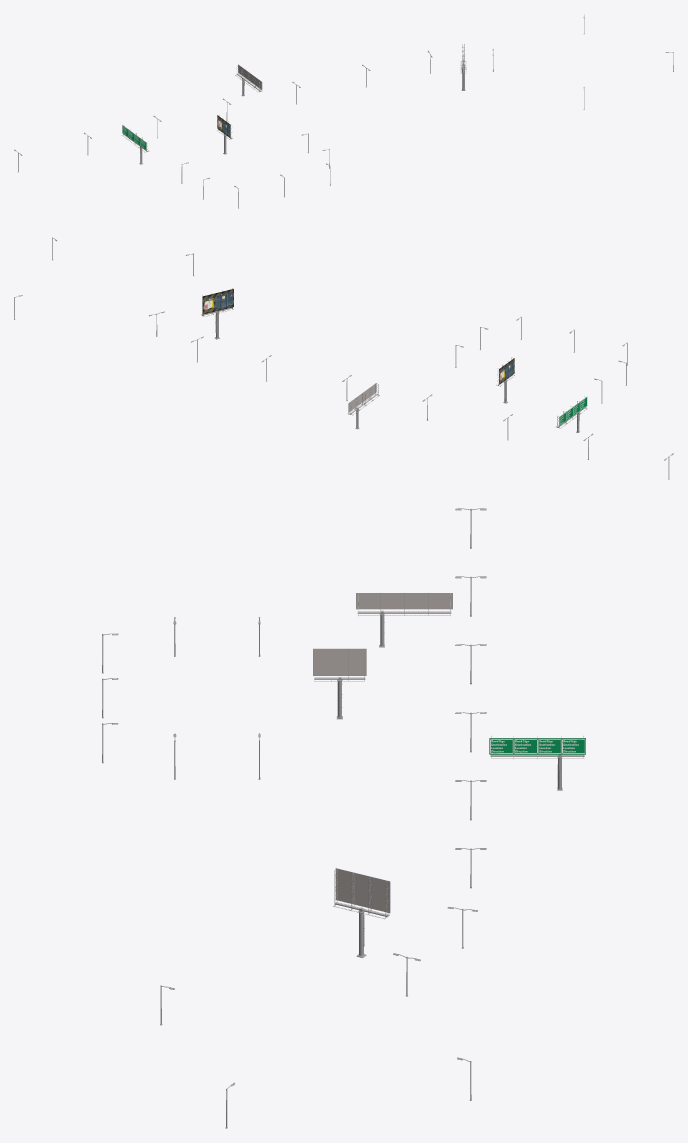
File: pierbroadsvertical.glb
The picture shows the model from 3 angles, top to bottom: view 1: azimuth 30°, elevation 25°; view 2: azimuth 150°, elevation 25°; view 3: azimuth 270°, elevation 25°; orthographic projection. The views are drawn at different scales.
Parts seen in each view (by area): view 1: cityblockassetkit.019, cityblockassetkit; view 2: cityblockassetkit.003, cityblockassetkit.019, cityblockassetkit, cityblockassetkit.010; view 3: cityblockassetkit.003, cityblockassetkit, cityblockassetkit.019, cityblockassetkit.010.
Part boxes in pixels (<box>): cityblockassetkit.019: <box>235,64,262,96</box>; cityblockassetkit: <box>122,125,149,164</box>; cityblockassetkit.003: <box>201,288,233,339</box>; cityblockassetkit.019: <box>348,383,379,429</box>; cityblockassetkit: <box>556,396,587,432</box>; cityblockassetkit.010: <box>496,357,514,403</box>; cityblockassetkit.003: <box>333,868,390,957</box>; cityblockassetkit: <box>356,593,452,647</box>; cityblockassetkit.019: <box>489,736,585,790</box>; cityblockassetkit.010: <box>313,648,366,719</box>.
Bounding box in the file's own units: 325 × 21.01 × 114.
7 materials, 5 textured.
